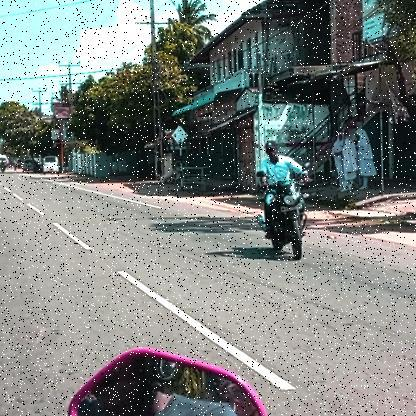motorcycle: (256, 178, 314, 261)
